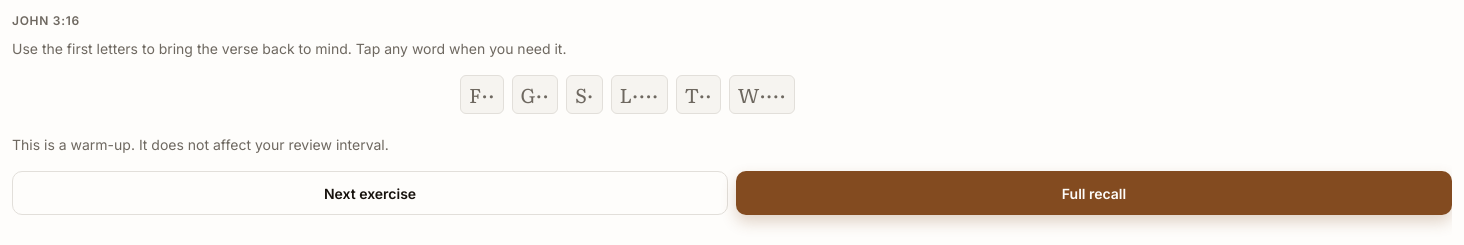
Scenario: VerseScaffold › first letters can reveal individual words
Click the button with test id "scaffold-initial" showing "F··" at (482, 94), box 460,75 -> 504,114
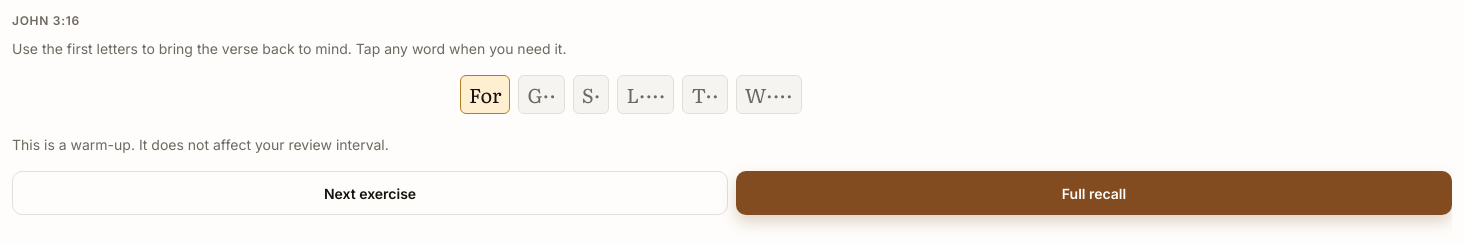
Check: the button with test id "scaffold-initial" reads "For", box 460,75 -> 510,114
